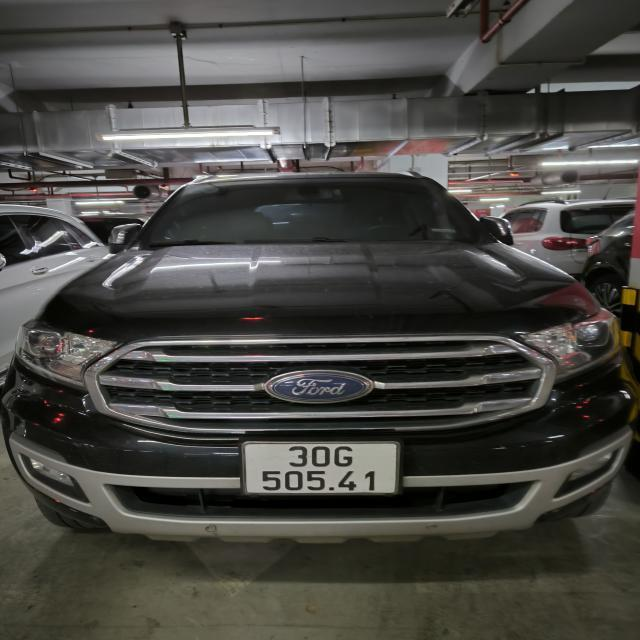license: (241, 439, 401, 497)
